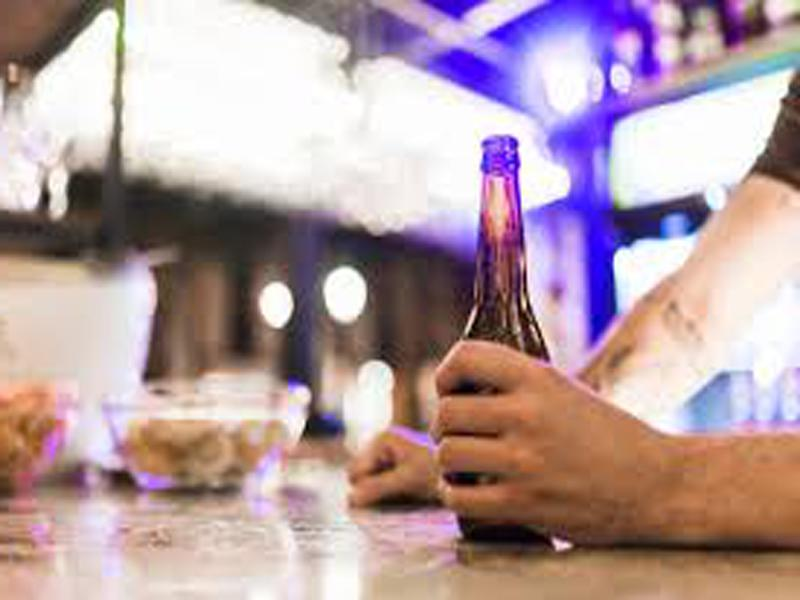Beer: (459, 134, 549, 541)
